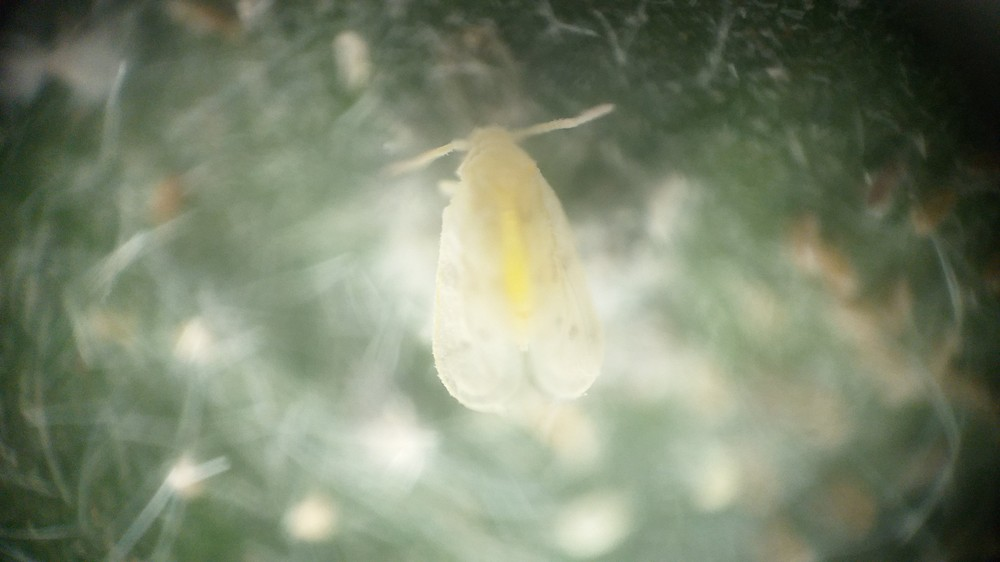Mosca Blanca: (370, 99, 679, 415)
